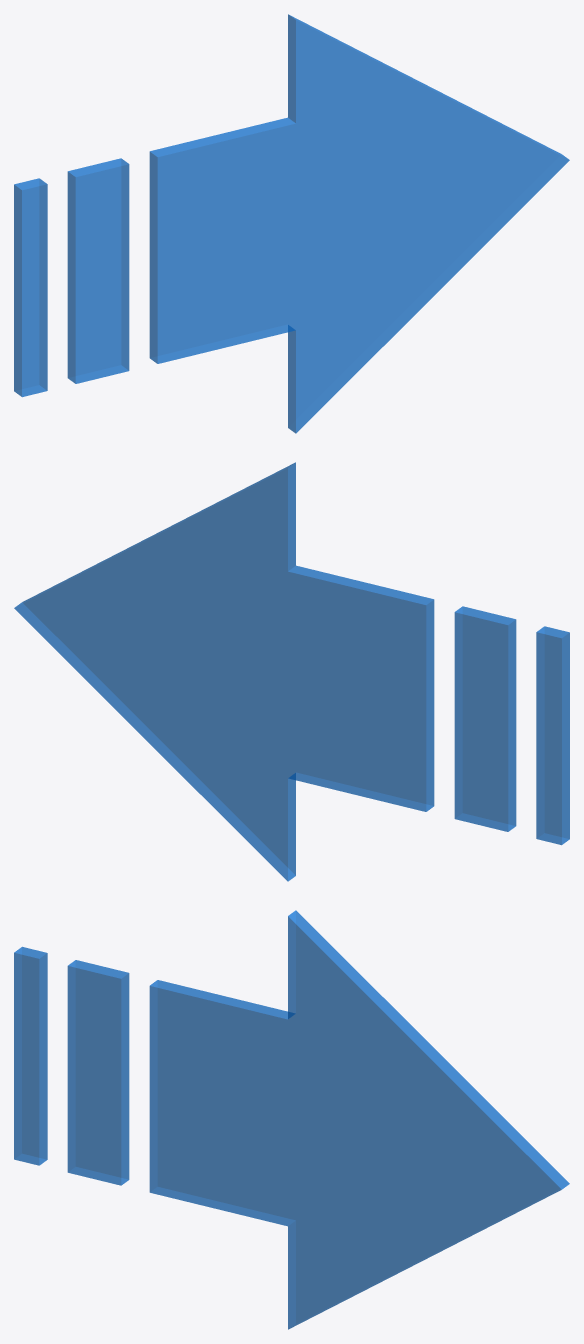
Rendered from noun_Arrow_1502728.fbx.
3 renders of one model, top to bottom at view 1: azimuth 30°, elevation 25°; view 2: azimuth 150°, elevation 25°; view 3: azimuth 330°, elevation 25°, orthographic.
Visible parts, largest first — view 1: 挤压_2; view 2: 挤压_2; view 3: 挤压_2.
Part boxes in pixels (x1,y1,x2,y2): 挤压_2: [14, 14, 569, 433]; 挤压_2: [14, 462, 569, 881]; 挤压_2: [14, 910, 569, 1329].
Size of the model in its own units: 194 by 140 by 5.
